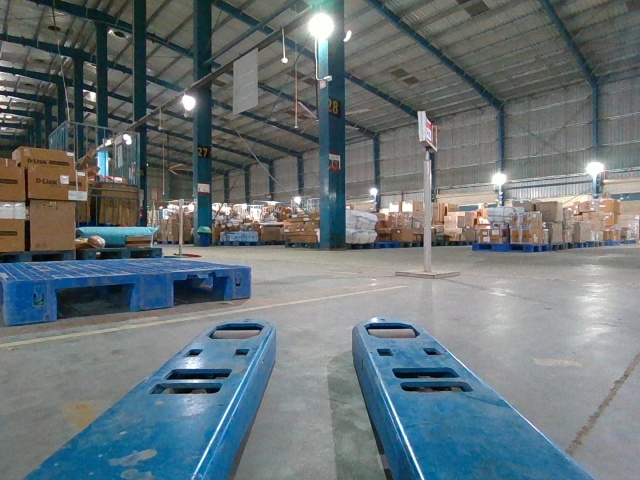block: (4, 278, 58, 330), (134, 270, 176, 313), (229, 266, 252, 300)
front: (7, 266, 250, 324)
hole pallet: (52, 279, 138, 322), (167, 273, 234, 308)
